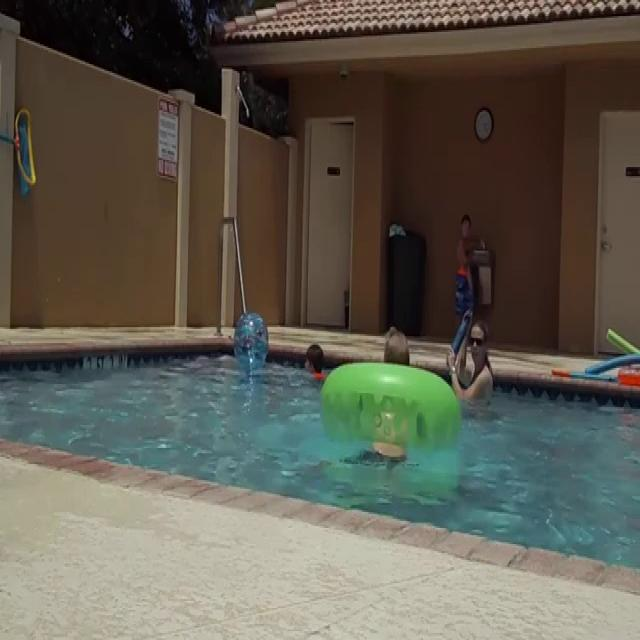adult: (444, 321, 494, 414)
child: (377, 322, 411, 463), (457, 214, 470, 329), (301, 344, 321, 386)
